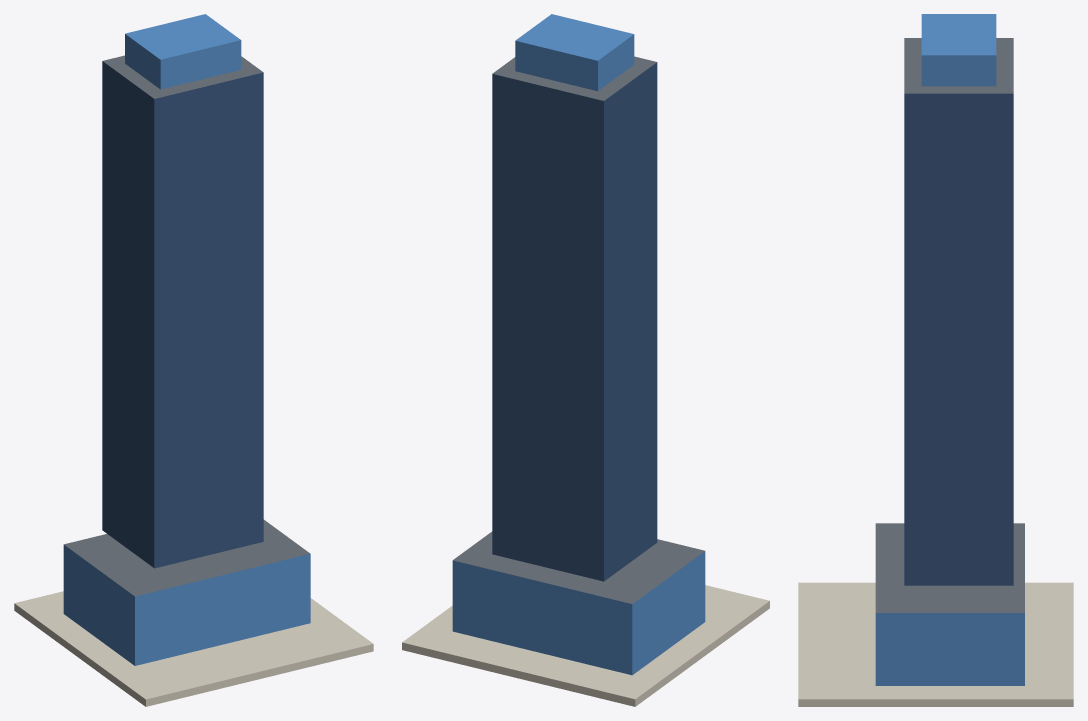
3 renders of one model, left to right at view 1: azimuth 30°, elevation 25°; view 2: azimuth 150°, elevation 25°; view 3: azimuth 270°, elevation 25°, orthographic. The views are drawn at different scales.
Visible parts, largest first — view 1: b20_v2_lod2; view 2: b20_v2_lod2; view 3: b20_v2_lod2.
Part boxes in pixels (x1,y1,x2,y2): b20_v2_lod2: [14, 14, 373, 706]; b20_v2_lod2: [402, 14, 769, 706]; b20_v2_lod2: [798, 14, 1073, 706].
Size of the model in its own units: 0.96 by 2.36 by 0.96.
